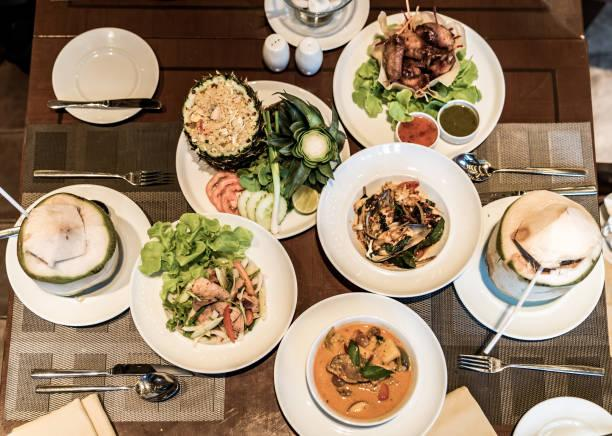Braised Crucian Carp: (129, 212, 292, 373), (175, 80, 338, 241), (332, 11, 503, 157), (273, 291, 448, 433), (316, 142, 478, 294), (452, 195, 602, 339), (7, 184, 150, 326), (510, 396, 612, 435)
